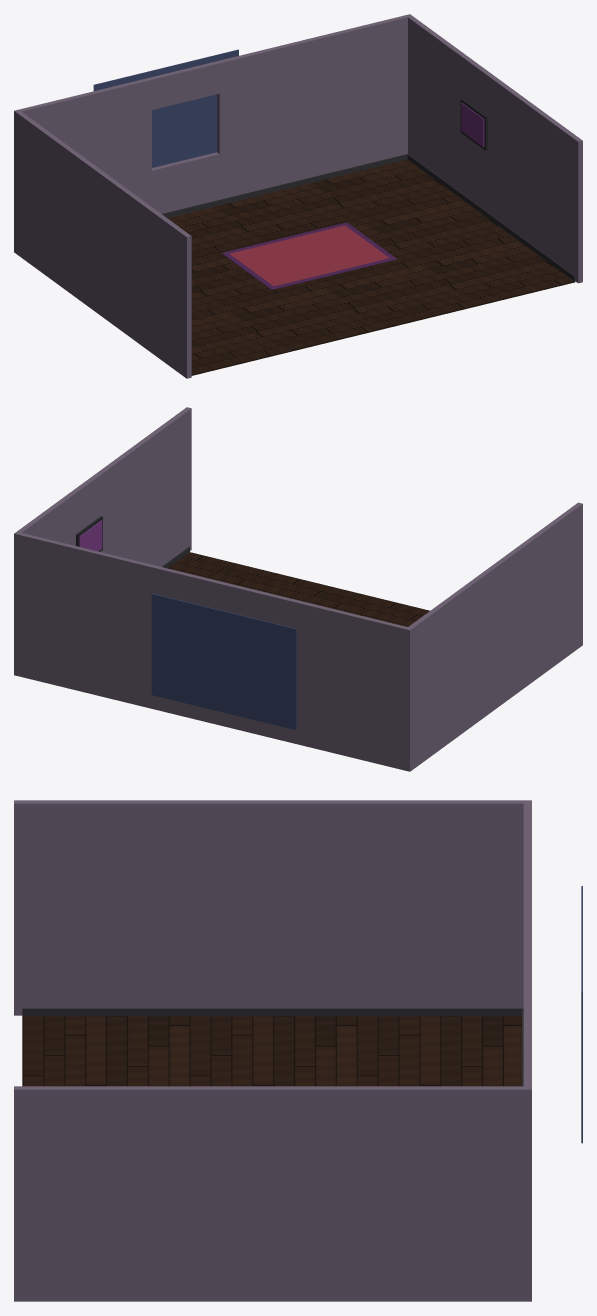
Rendered from room.glb.
3 renders of one model, top to bottom at view 1: azimuth 30°, elevation 25°; view 2: azimuth 150°, elevation 25°; view 3: azimuth 270°, elevation 25°, orthographic. The views are drawn at different scales.
Parts seen in each view (by area): view 1: room, sky; view 2: room, sky; view 3: room.
Boxes of the visible parts, left/top/right/bottom form: room: left=14, top=14, right=582, bottom=378; sky: left=93, top=49, right=238, bottom=167; room: left=14, top=407, right=582, bottom=771; sky: left=151, top=593, right=296, bottom=730; room: left=14, top=800, right=531, bottom=1301.
Size of the model in its own units: 8.2 by 2.82 by 6.81.
Materials: 8 (1 with a texture image).
